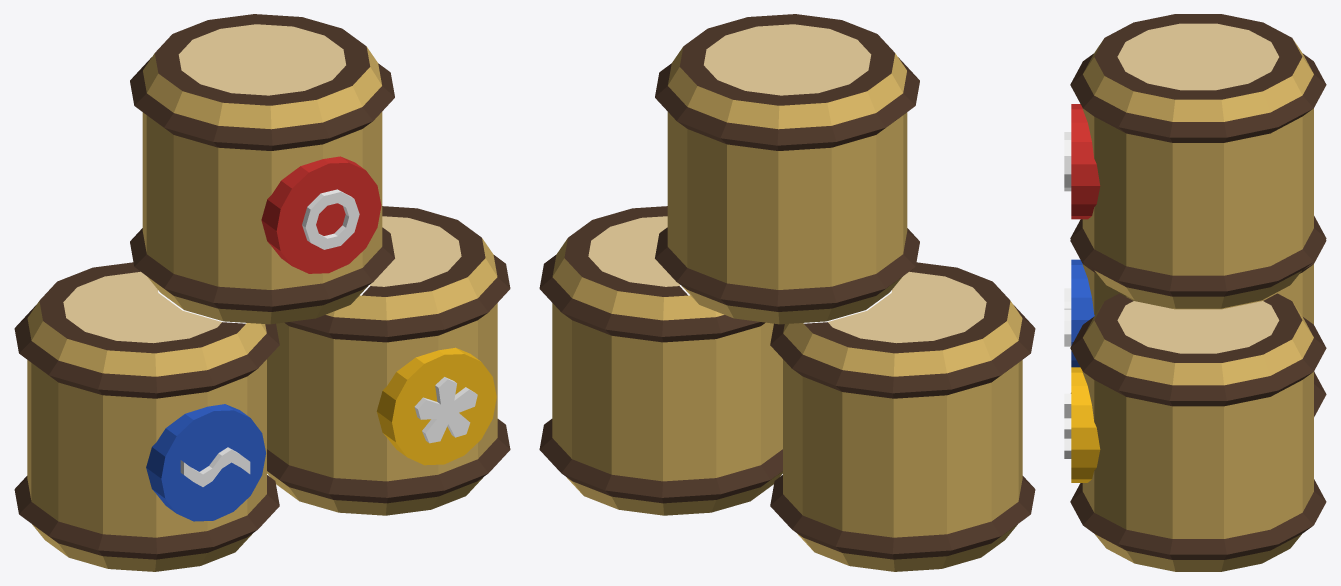
File: sake-barrels.glb
3 views of the same model, side by side, from view 1: azimuth 30°, elevation 25°; view 2: azimuth 150°, elevation 25°; view 3: azimuth 270°, elevation 25° (orthographic). The views are drawn at different scales.
Visible parts, largest first — view 1: Straw, Ropes, Lids, LabelBlue, LabelRed, LabelYellow, Symbols; view 2: Straw, Ropes, Lids; view 3: Straw, Ropes, Lids, LabelRed, LabelYellow, Symbols, LabelBlue.
Part boxes in pixels (bbox=[...]): Straw: bbox=[27, 47, 497, 571]; Ropes: bbox=[14, 14, 510, 559]; Lids: bbox=[63, 24, 461, 343]; LabelBlue: bbox=[146, 404, 265, 521]; LabelRed: bbox=[261, 156, 381, 273]; LabelYellow: bbox=[376, 347, 496, 465]; Symbols: bbox=[180, 189, 477, 486]; Straw: bbox=[552, 47, 1022, 571]; Ropes: bbox=[539, 14, 1035, 559]; Lids: bbox=[588, 24, 986, 343]; Straw: bbox=[1082, 39, 1313, 571]; Ropes: bbox=[1070, 14, 1326, 559]; Lids: bbox=[1117, 23, 1279, 353]; LabelRed: bbox=[1071, 104, 1100, 219]; LabelYellow: bbox=[1071, 367, 1100, 482]; Symbols: bbox=[1064, 132, 1071, 458]; LabelBlue: bbox=[1071, 259, 1094, 367].
Size of the model in its own units: 5.23 by 4.8 by 2.72.
